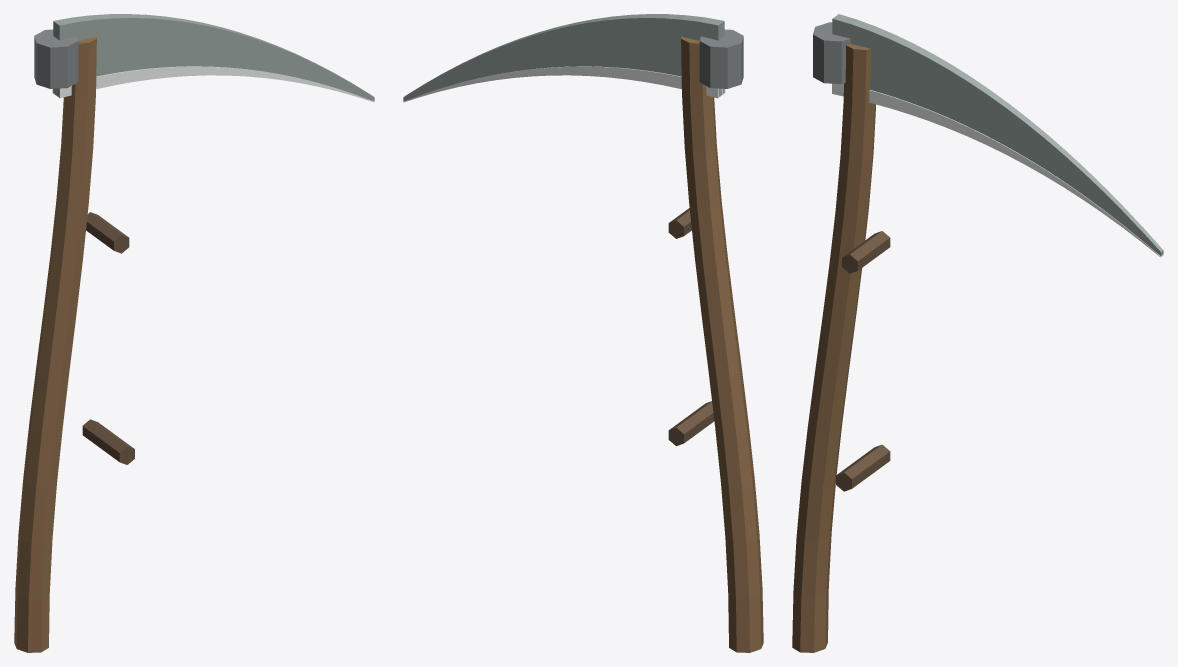
The model's file is scythe-sFVod6Ke.glb.
3 views of the same model, side by side, from view 1: azimuth 30°, elevation 25°; view 2: azimuth 150°, elevation 25°; view 3: azimuth 330°, elevation 25° (orthographic). The views are drawn at different scales.
Visible parts, largest first — view 1: Scythe; view 2: Scythe; view 3: Scythe.
Boxes of the visible parts, x1,y1,x2,y2 form: Scythe: (14,14,374,652); Scythe: (403,14,763,652); Scythe: (792,14,1163,652).
Size of the model in its own units: 0.72 by 1.19 by 0.15.
